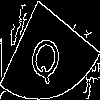Q: (25, 25, 68, 88)
